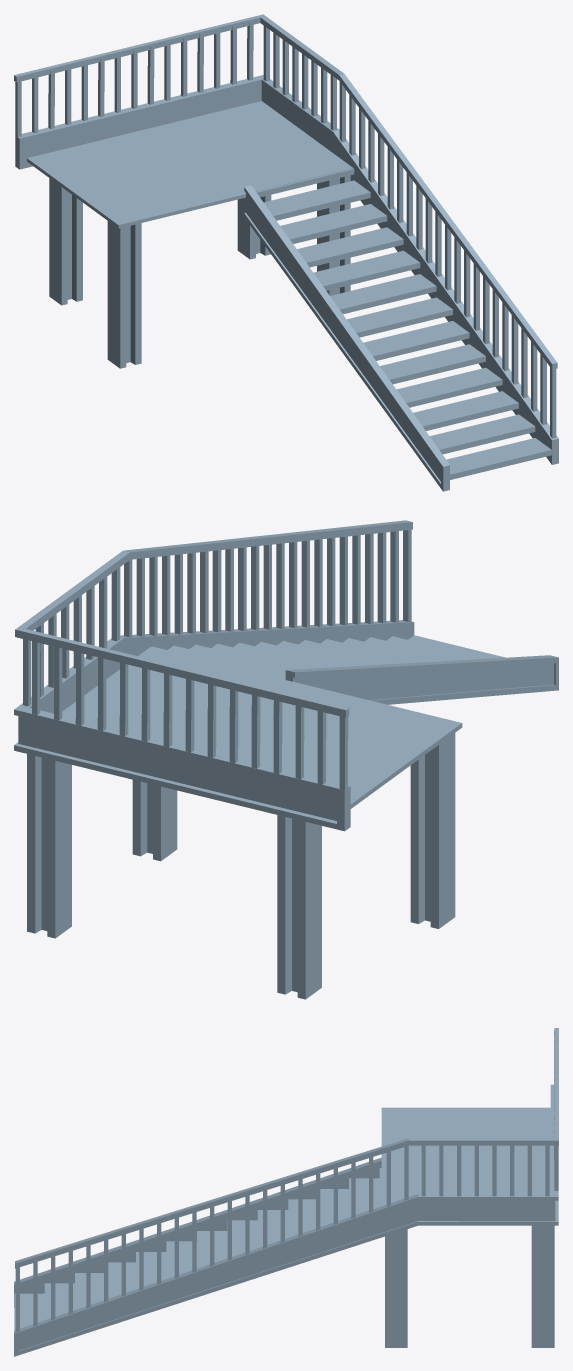
Rendered from pyrobox_verynice_13stairs_real_size.fbx.
The picture shows the model from 3 angles, top to bottom: view 1: azimuth 30°, elevation 25°; view 2: azimuth 150°, elevation 25°; view 3: azimuth 270°, elevation 25°; orthographic projection. The views are drawn at different scales.
Parts seen in each view (by area): view 1: Cube.007; view 2: Cube.007; view 3: Cube.007.
Boxes of the visible parts, x1,y1,x2,y2 form: Cube.007: [14, 14, 558, 491]; Cube.007: [14, 520, 558, 999]; Cube.007: [14, 1028, 558, 1356].
Bounding box in the file's own units: 312 × 278 × 635.
